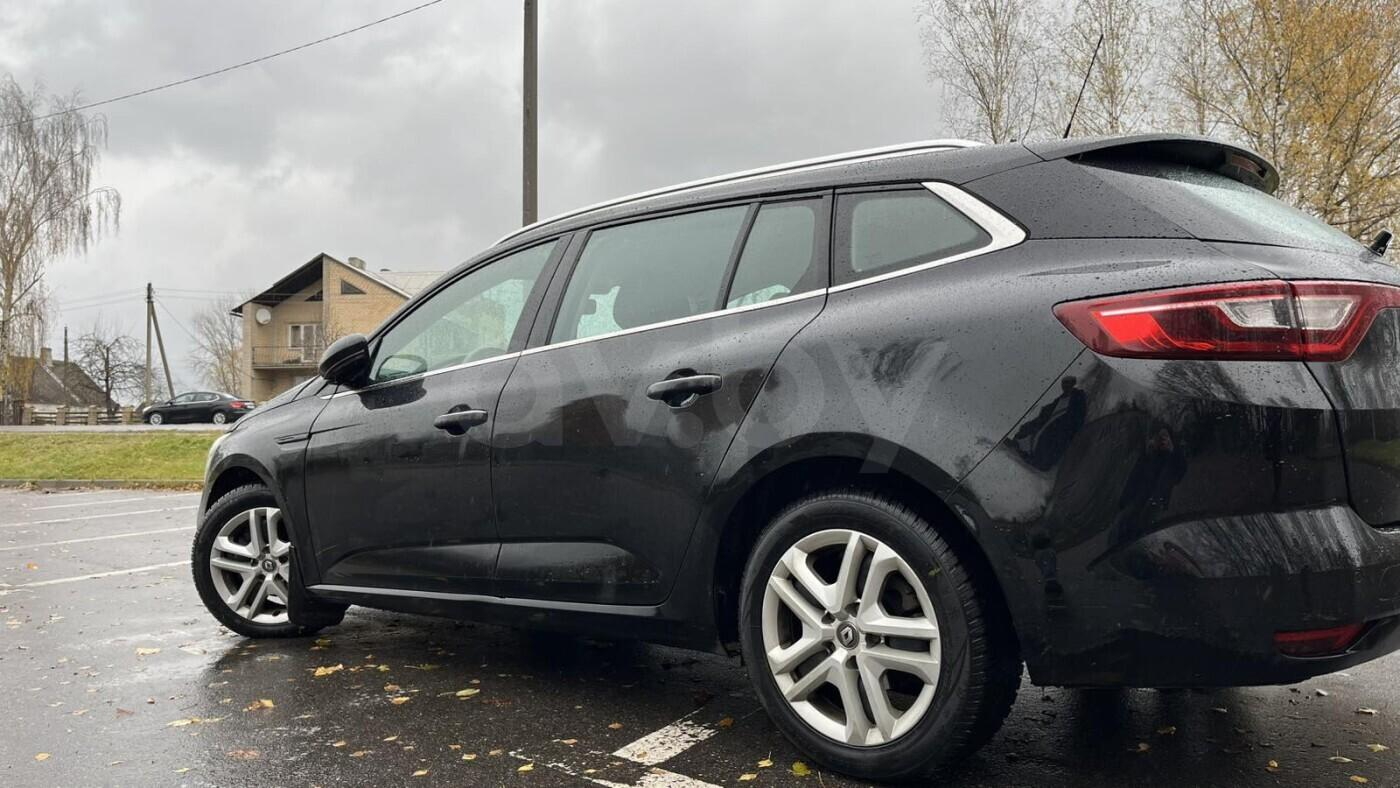Megane_2016-2020: (189, 135, 1400, 765)
